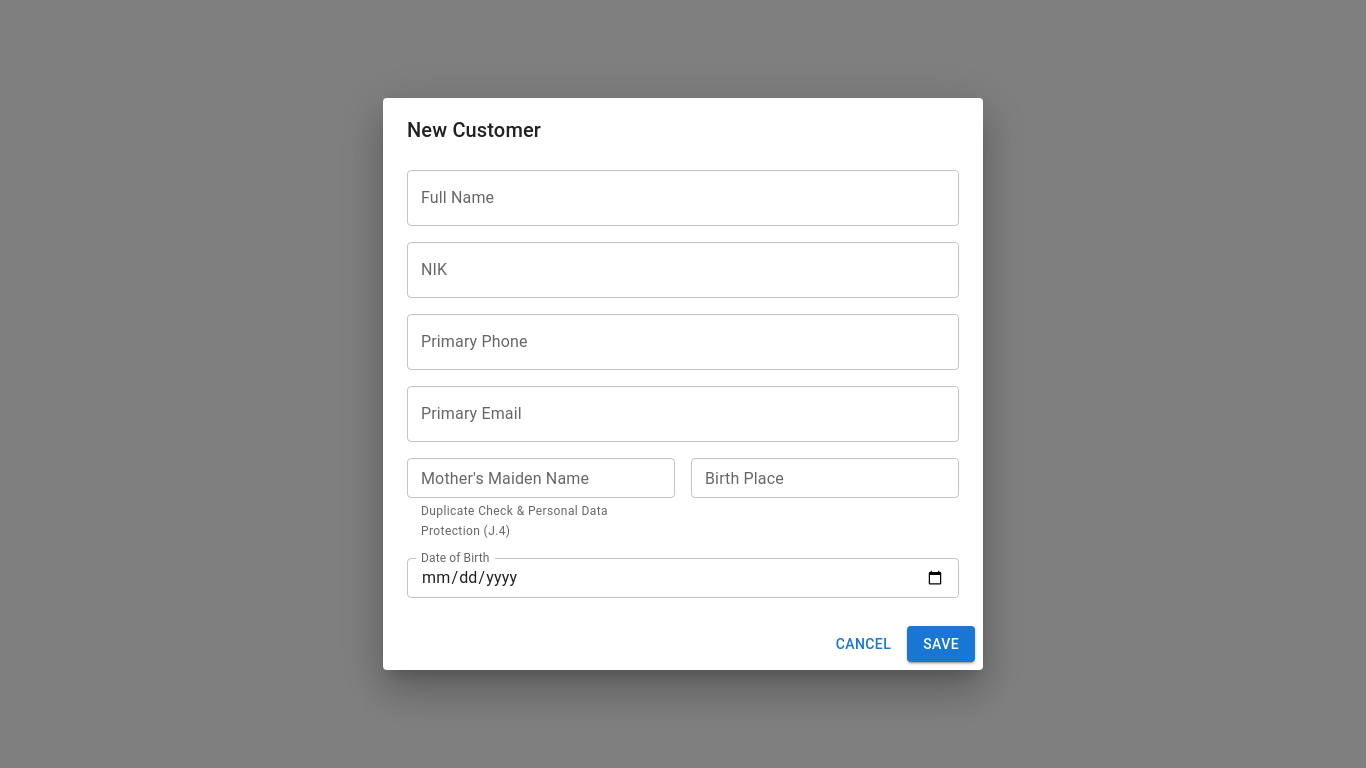
Test: CustomerFormDialog › blocks submit when full name is empty
Click the button "Save": (941, 644) [907,626,975,662]
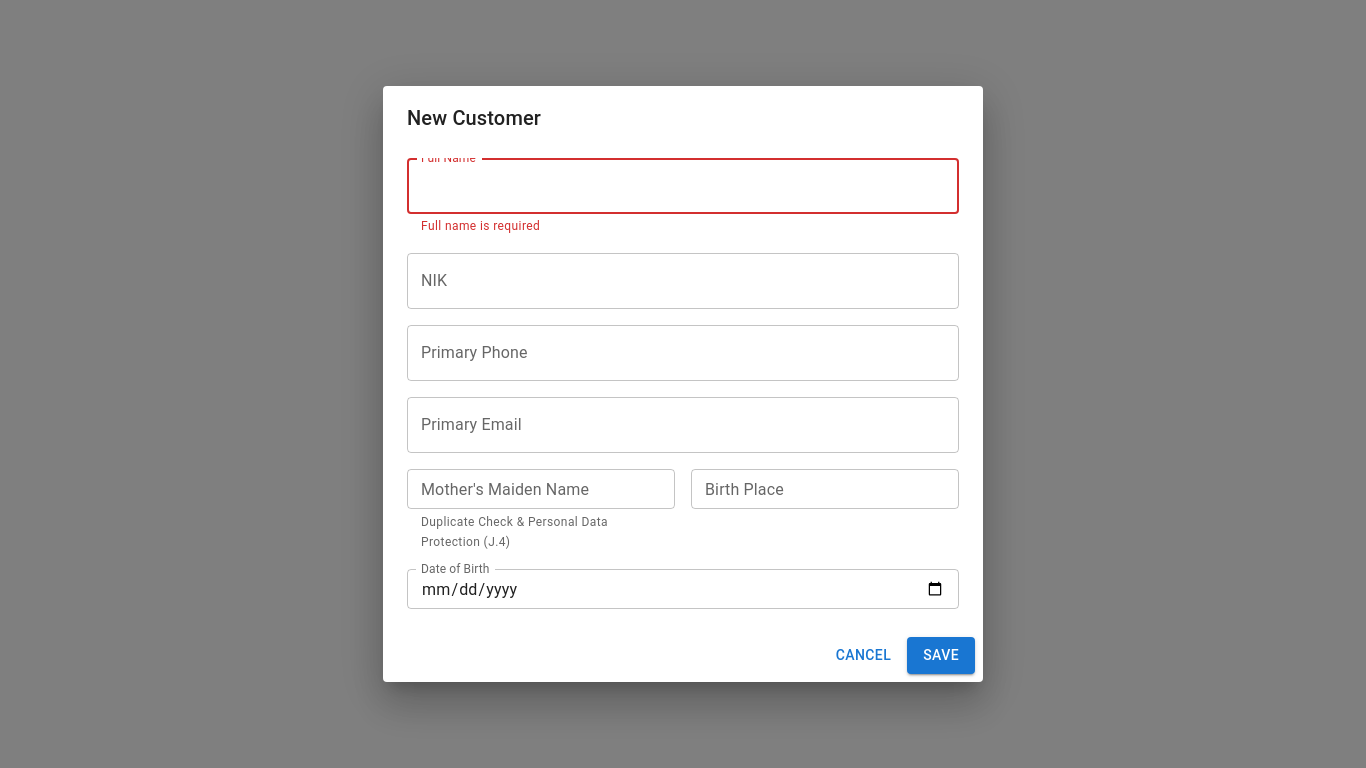
Now the text "Full name is required" is shown, box [421,219,540,233]
